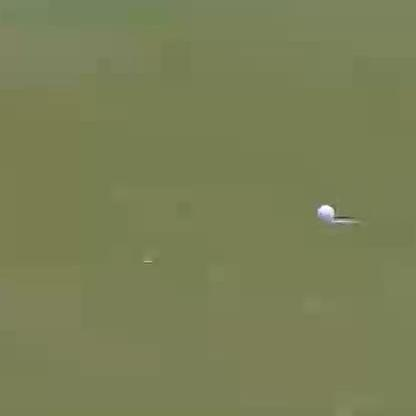golfball: (316, 202, 334, 219)
